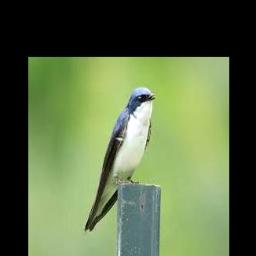Swallow: (84, 87, 157, 232)
